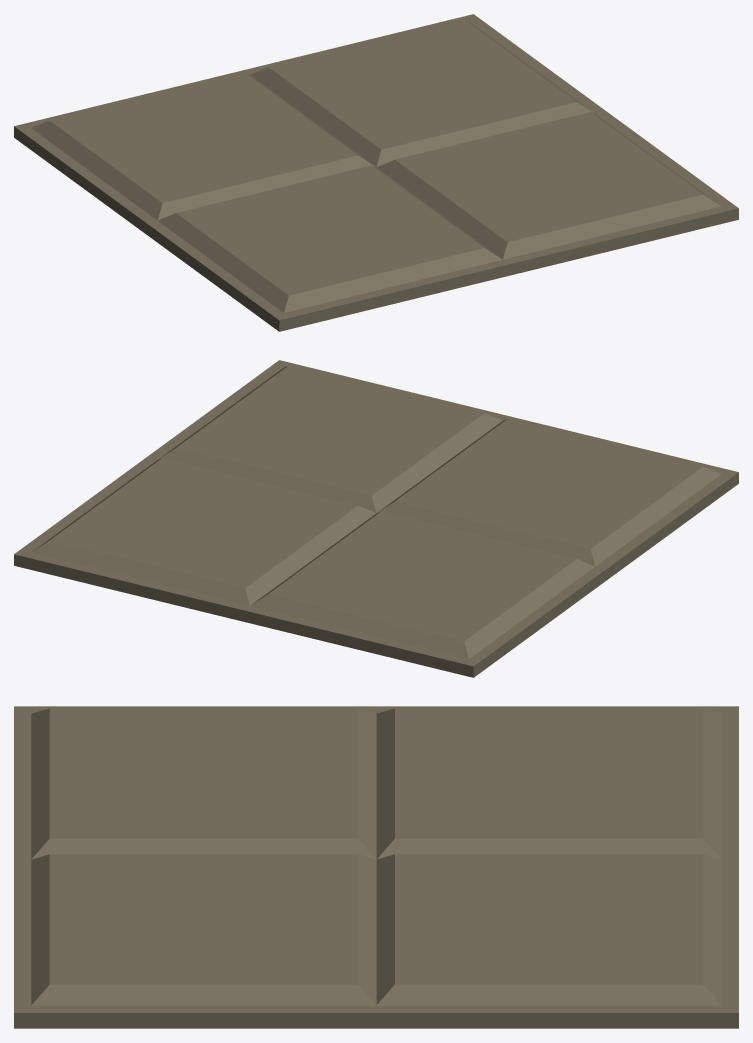
File: SM_roof_tile_03.fbx
The picture shows the model from 3 angles, top to bottom: view 1: azimuth 30°, elevation 25°; view 2: azimuth 150°, elevation 25°; view 3: azimuth 270°, elevation 25°; orthographic projection. The views are drawn at different scales.
Visible parts, largest first — view 1: roof_tile_03; view 2: roof_tile_03; view 3: roof_tile_03.
Boxes of the visible parts, left/top/right/bottom form: roof_tile_03: left=14, top=14, right=738, bottom=331; roof_tile_03: left=14, top=360, right=738, bottom=677; roof_tile_03: left=14, top=706, right=738, bottom=1028.
Bounding box in the file's own units: 210 × 9.23 × 210.
